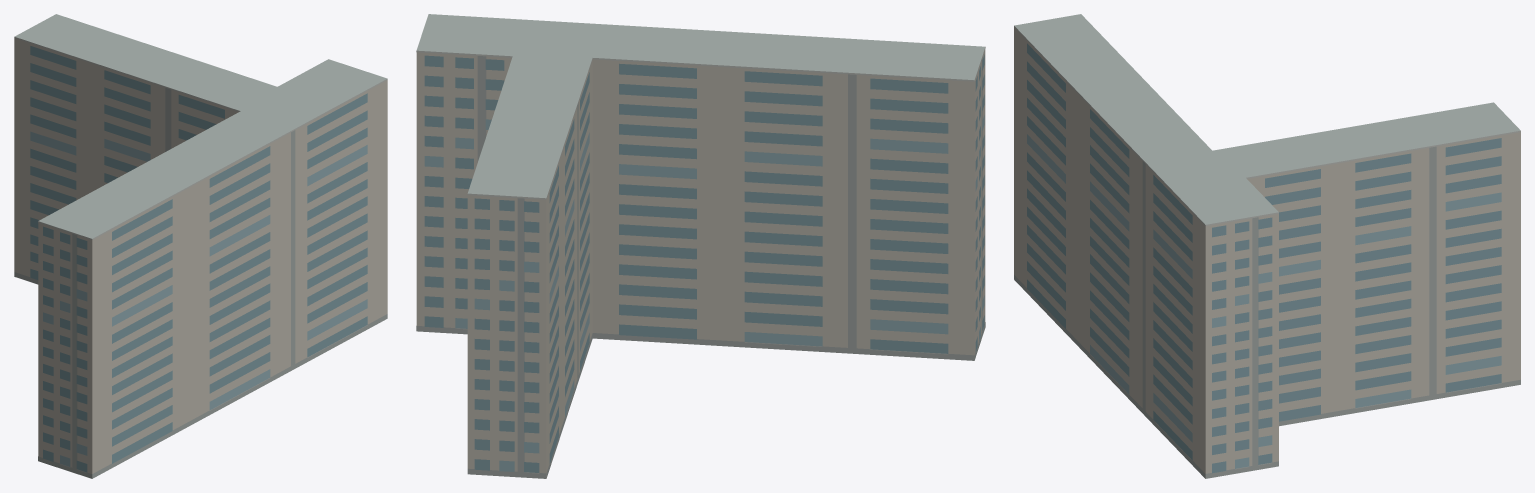
Rendered from residential-db74931d-ed56-4c67-bb20-c54f42f5a204.glb.
3 renders of one model, left to right at view 1: azimuth 30°, elevation 25°; view 2: azimuth 150°, elevation 25°; view 3: azimuth 270°, elevation 25°, orthographic. The views are drawn at different scales.
Parts seen in each view (by area): view 1: residential-db74931d-ed56-4c67-bb20-c54f42f5a204.tmp; view 2: residential-db74931d-ed56-4c67-bb20-c54f42f5a204.tmp; view 3: residential-db74931d-ed56-4c67-bb20-c54f42f5a204.tmp.
Boxes of the visible parts, x1=… form: residential-db74931d-ed56-4c67-bb20-c54f42f5a204.tmp: x1=14, y1=14, x2=387, y2=478; residential-db74931d-ed56-4c67-bb20-c54f42f5a204.tmp: x1=416, y1=14, x2=985, y2=478; residential-db74931d-ed56-4c67-bb20-c54f42f5a204.tmp: x1=1014, y1=14, x2=1520, y2=478.
Size of the model in its own units: 75.99 by 42.7 by 77.2.
